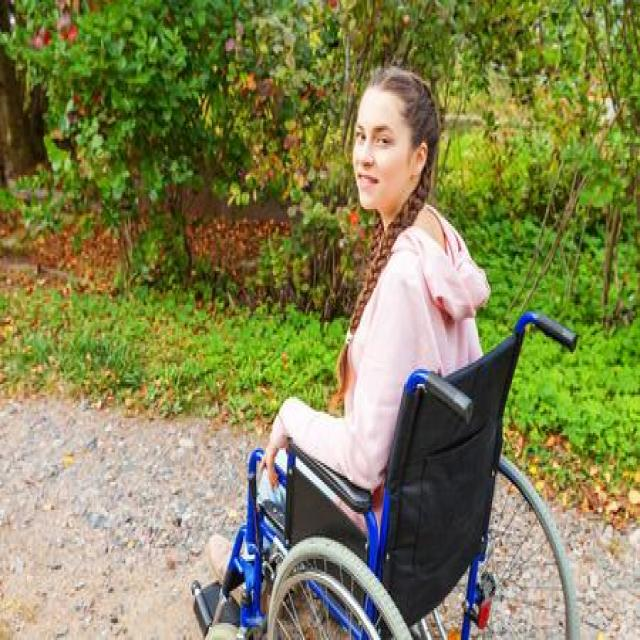wheelchairs: (183, 301, 590, 640)
